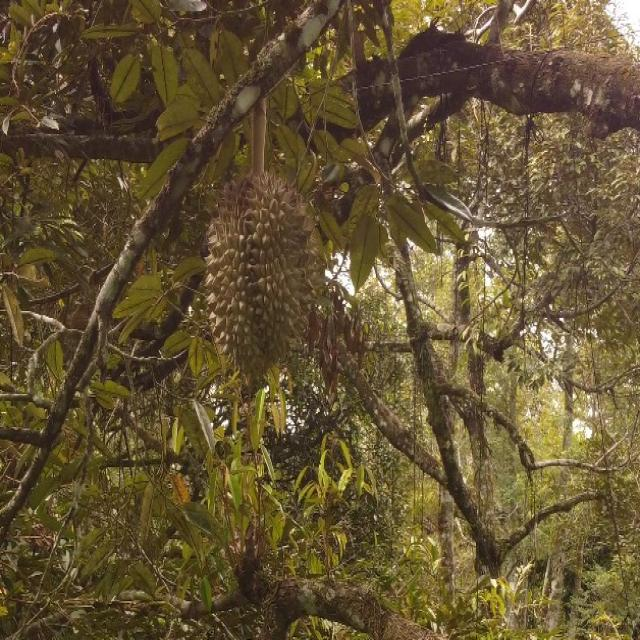mature: (206, 171, 320, 384)
